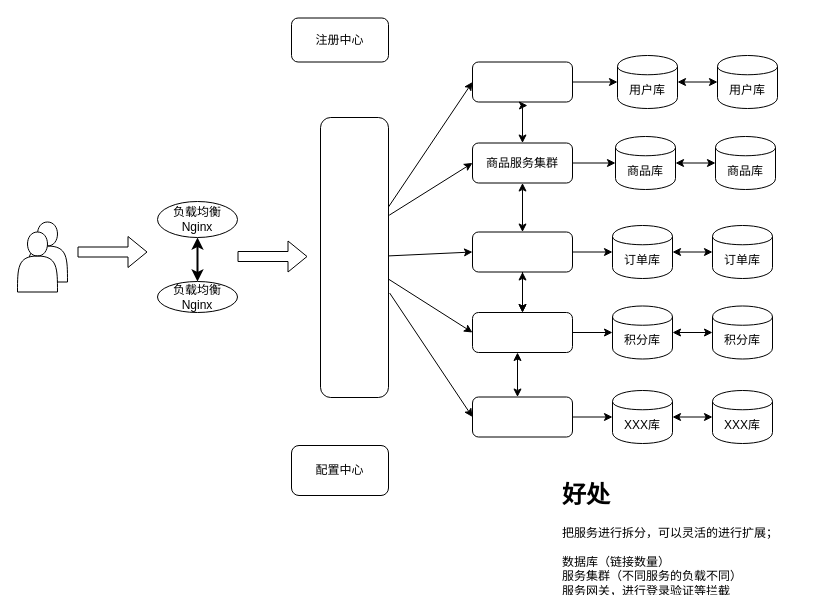
Some shapes in this 835 by 614 pixel diagram are drawn without their labels. The centre of each missing label's shape, as x and y in pixels:
API Gateway 网关集群: the point at 354,257
XXX服务集群: the point at 522,416
用户服务集群: the point at 522,81
积分服务集群: the point at 522,332
订单服务集群: the point at 522,251
